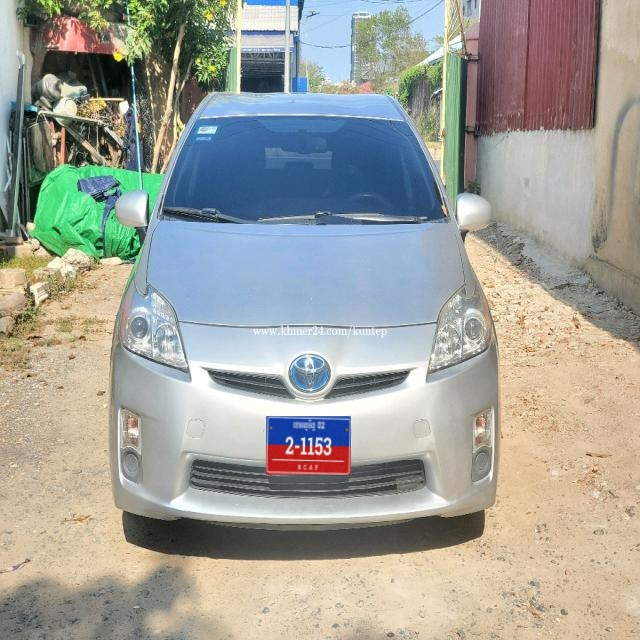Plate Number: (267, 416, 351, 476)
